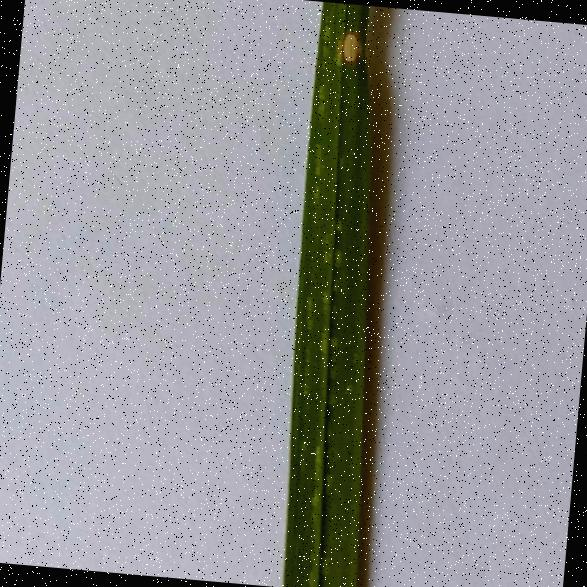Leaf_smut: (333, 23, 369, 68)
